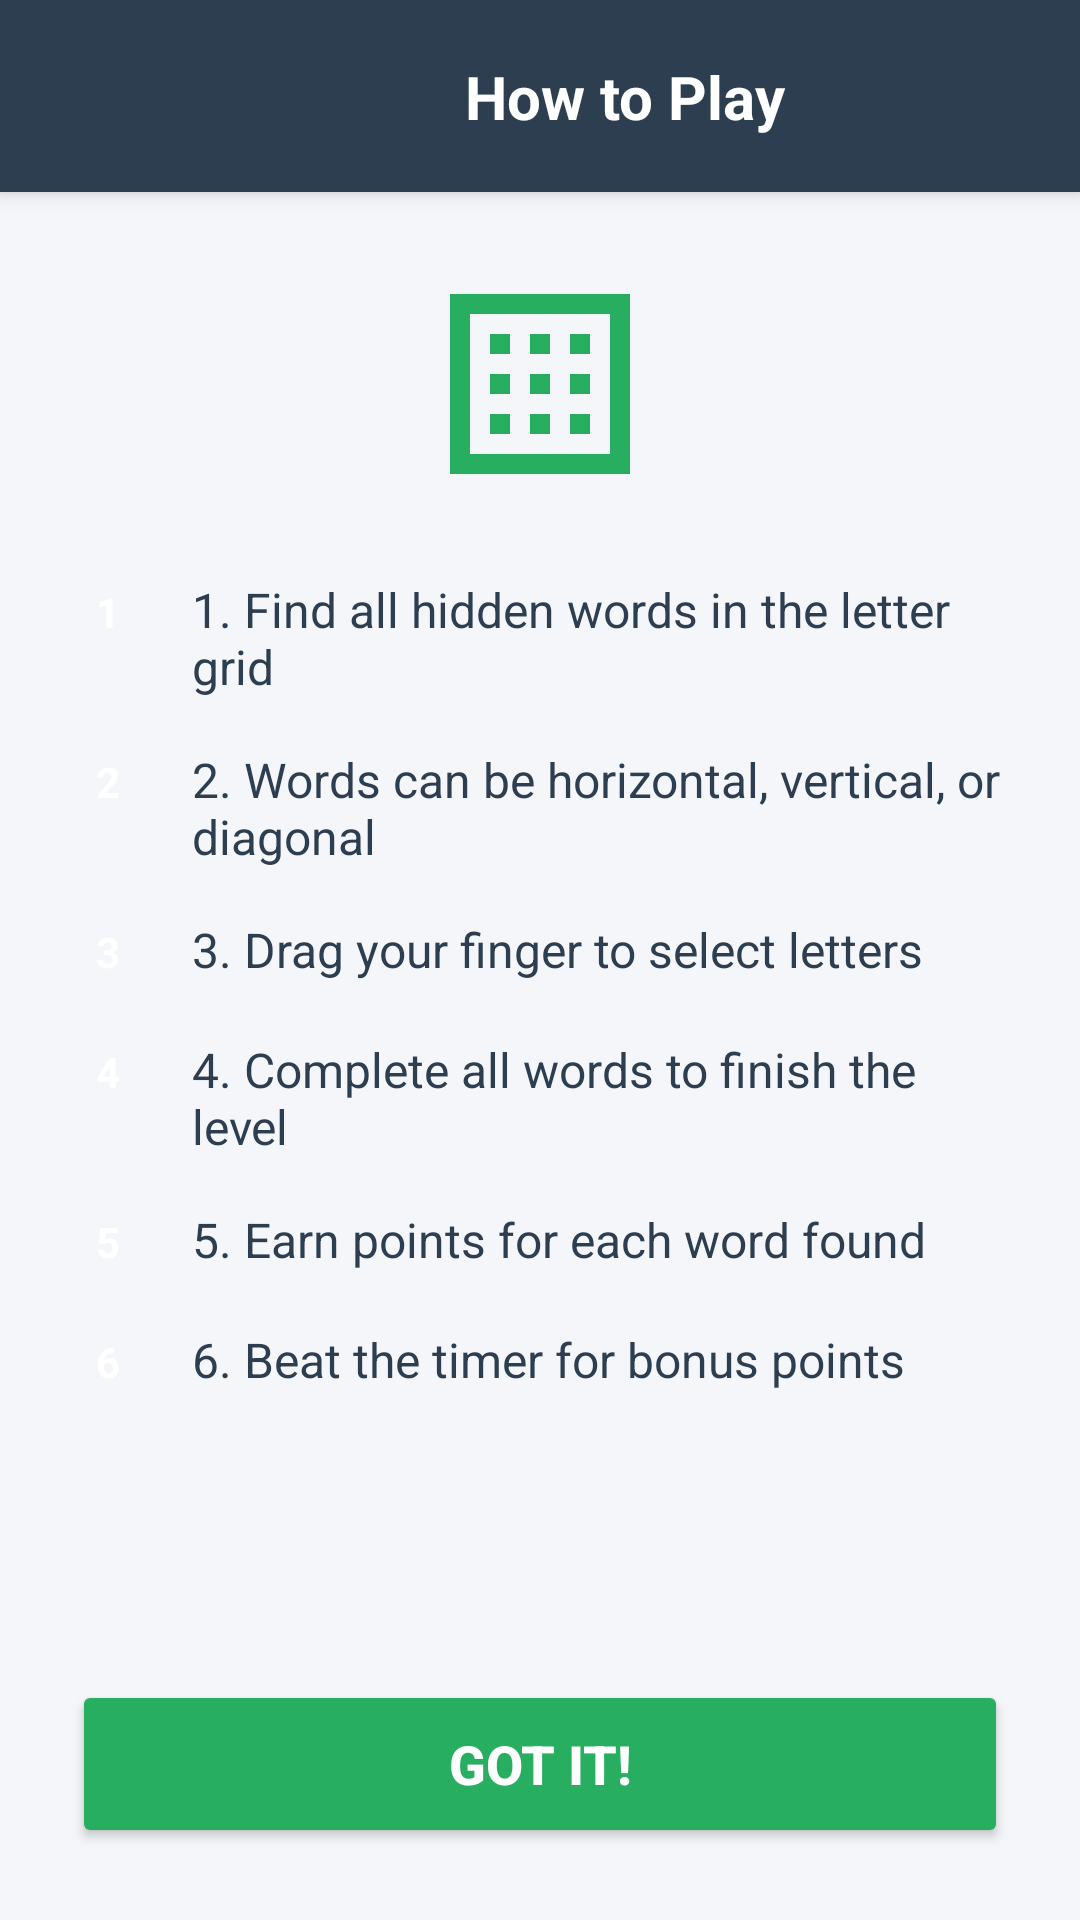

Named icons in this screenshot (1080 × 1920) and their bounding boxes, (x1, y1, x2, y2):
game: (450, 294, 630, 474)
